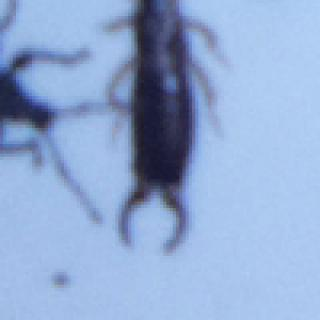earwig: (96, 0, 230, 266)
